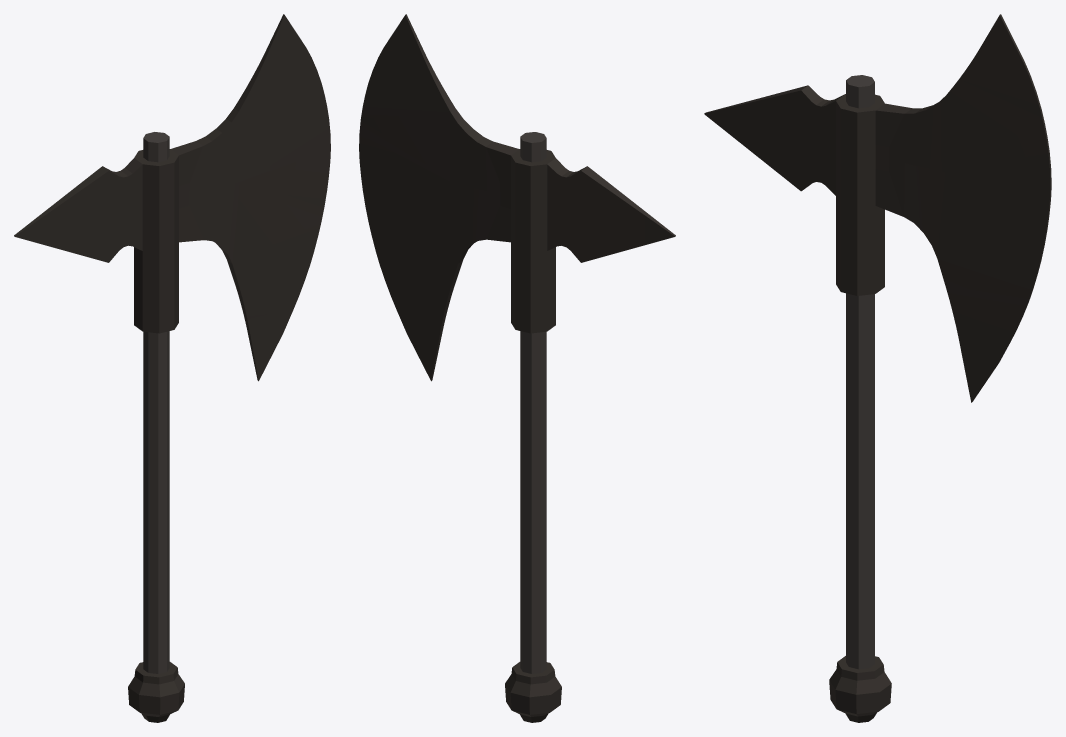
The model's file is shop-item-1009.glb.
3 renders of one model, left to right at view 1: azimuth 30°, elevation 25°; view 2: azimuth 150°, elevation 25°; view 3: azimuth 330°, elevation 25°, orthographic. The views are drawn at different scales.
Parts seen in each view (by area): view 1: one_handed_axe_7; view 2: one_handed_axe_7; view 3: one_handed_axe_7.
Part boxes in pixels (left/top/right/bottom): one_handed_axe_7: left=14, top=14, right=330, bottom=722; one_handed_axe_7: left=359, top=14, right=675, bottom=722; one_handed_axe_7: left=704, top=14, right=1051, bottom=722.
Size of the model in its own units: 0.6599 by 1.34 by 0.0964.
1 material, 1 textured.
